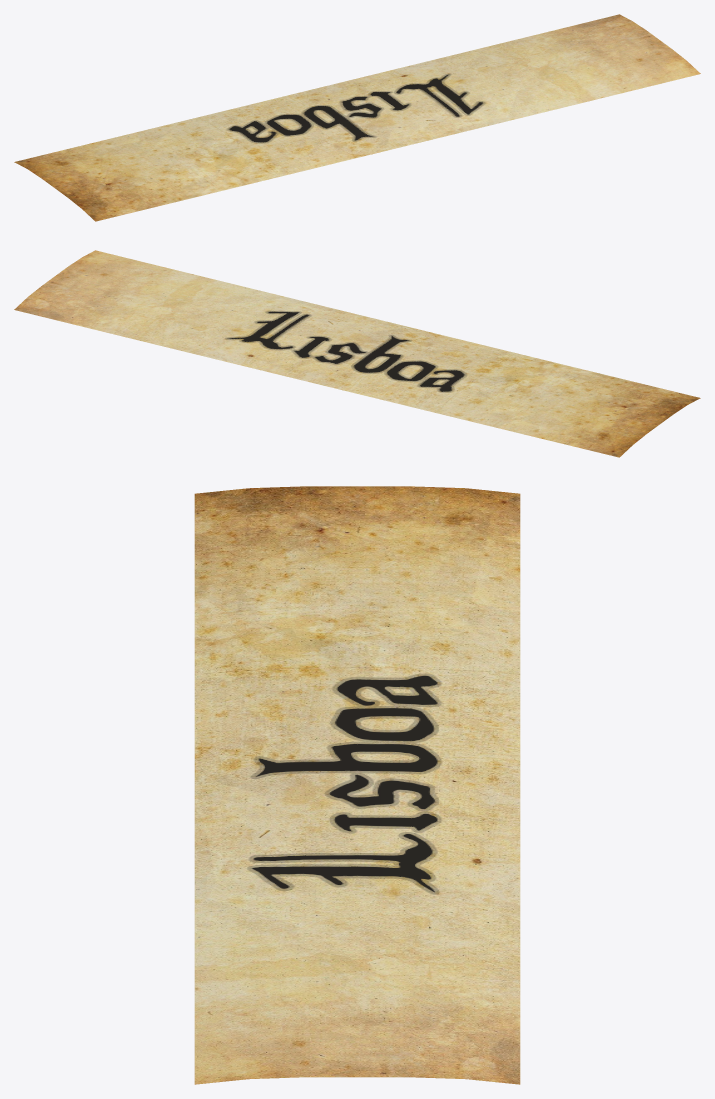
Rendered from lisboa.fbx.
The picture shows the model from 3 angles, top to bottom: view 1: azimuth 30°, elevation 25°; view 2: azimuth 150°, elevation 25°; view 3: azimuth 270°, elevation 25°; orthographic projection. The views are drawn at different scales.
Parts seen in each view (by area): view 1: Plano; view 2: Plano; view 3: Plano.
Part boxes in pixels (left/top/right/bottom): Plano: left=14, top=14, right=700, bottom=221; Plano: left=14, top=250, right=700, bottom=457; Plano: left=194, top=486, right=520, bottom=1084.
Bounding box in the file's own units: 400 × 2.45 × 93.18.
